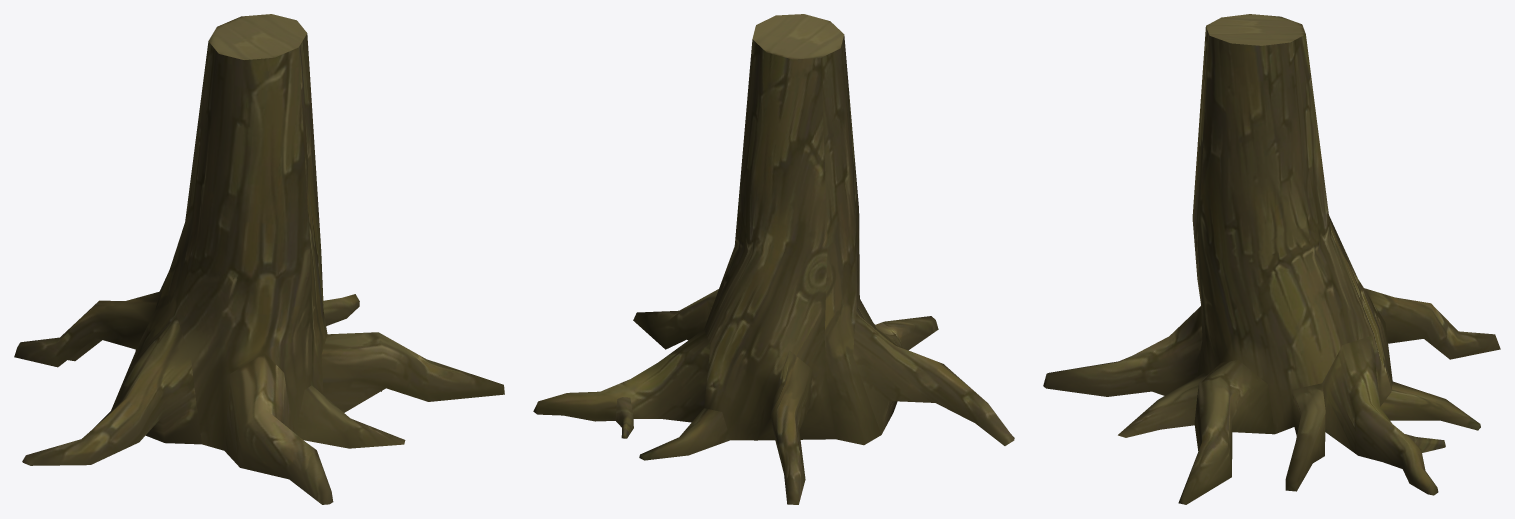
The model's file is Jungle_tree_01.fbx.
3 views of the same model, side by side, from view 1: azimuth 30°, elevation 25°; view 2: azimuth 150°, elevation 25°; view 3: azimuth 270°, elevation 25° (orthographic). The views are drawn at different scales.
Visible parts, largest first — view 1: Jungle_tree_01; view 2: Jungle_tree_01; view 3: Jungle_tree_01.
Boxes of the visible parts, x1,y1,x2,y2 form: Jungle_tree_01: [14, 14, 504, 504]; Jungle_tree_01: [533, 14, 1014, 504]; Jungle_tree_01: [1043, 14, 1500, 504].
Bounding box in the file's own units: 387 × 337 × 351.
